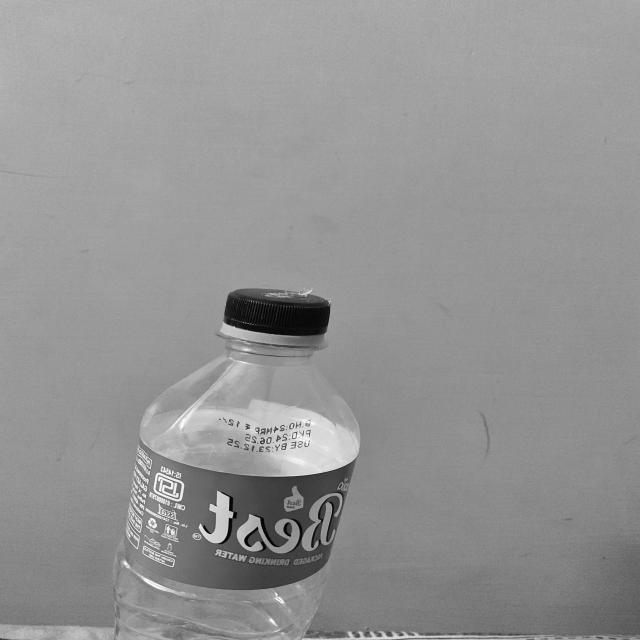Good-cap-Df0S: (218, 289, 338, 350)
